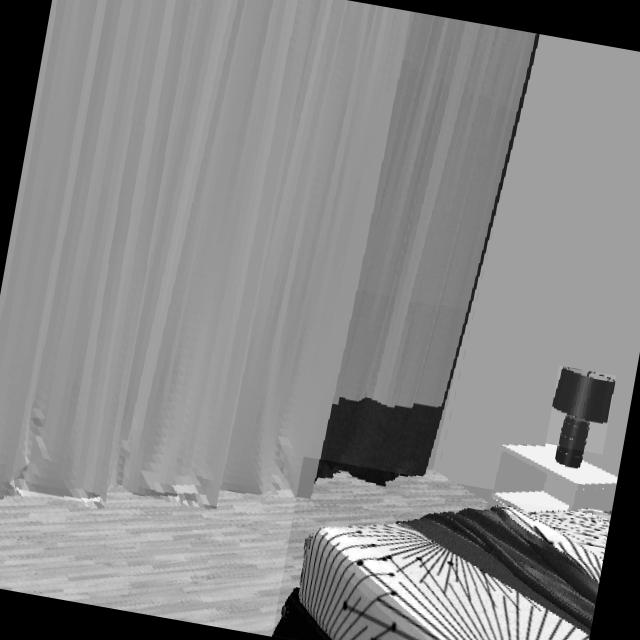bed: (272, 507, 611, 640)
lamp: (551, 367, 615, 469)
nighttable: (491, 445, 616, 516)
